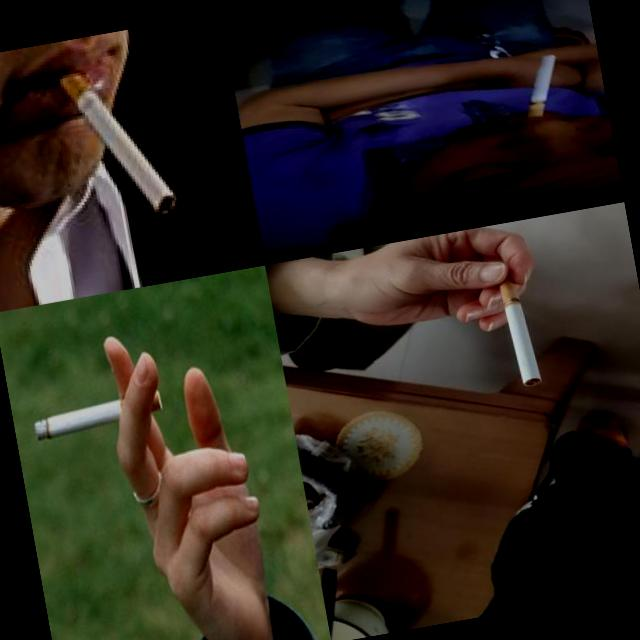cigarette: (46, 45, 178, 230), (496, 272, 544, 389), (28, 394, 122, 444), (518, 54, 565, 118)
